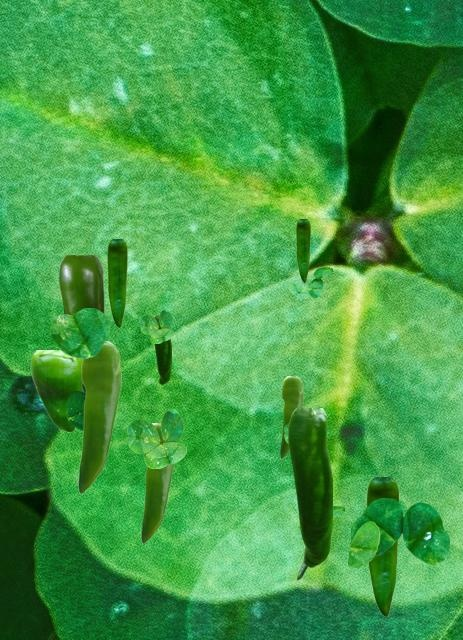green_chili: (288, 408, 331, 566), (78, 341, 120, 492), (366, 477, 398, 615), (30, 350, 83, 431), (141, 423, 174, 542), (59, 255, 103, 314), (280, 376, 302, 457), (107, 239, 126, 326), (154, 315, 170, 383), (296, 219, 309, 281), (296, 546, 308, 579)
